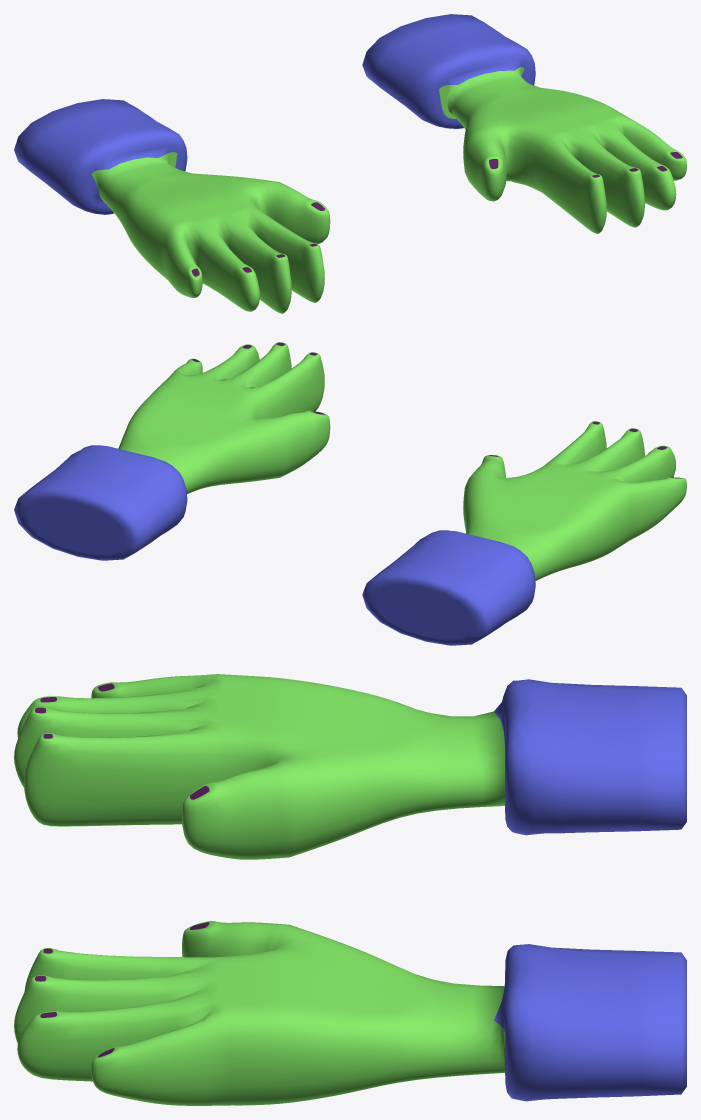
The model's file is Hand.fbx.
The picture shows the model from 3 angles, top to bottom: view 1: azimuth 30°, elevation 25°; view 2: azimuth 150°, elevation 25°; view 3: azimuth 270°, elevation 25°; orthographic projection. The views are drawn at different scales.
Parts seen in each view (by area): view 1: Hand; view 2: Hand; view 3: Hand.
Boxes of the visible parts, x1,y1,x2,y2 form: Hand: (14, 14, 686, 313); Hand: (14, 342, 686, 645); Hand: (14, 674, 686, 1105).
Bounding box in the file's own units: 7.39 × 5.58 × 1.06.
